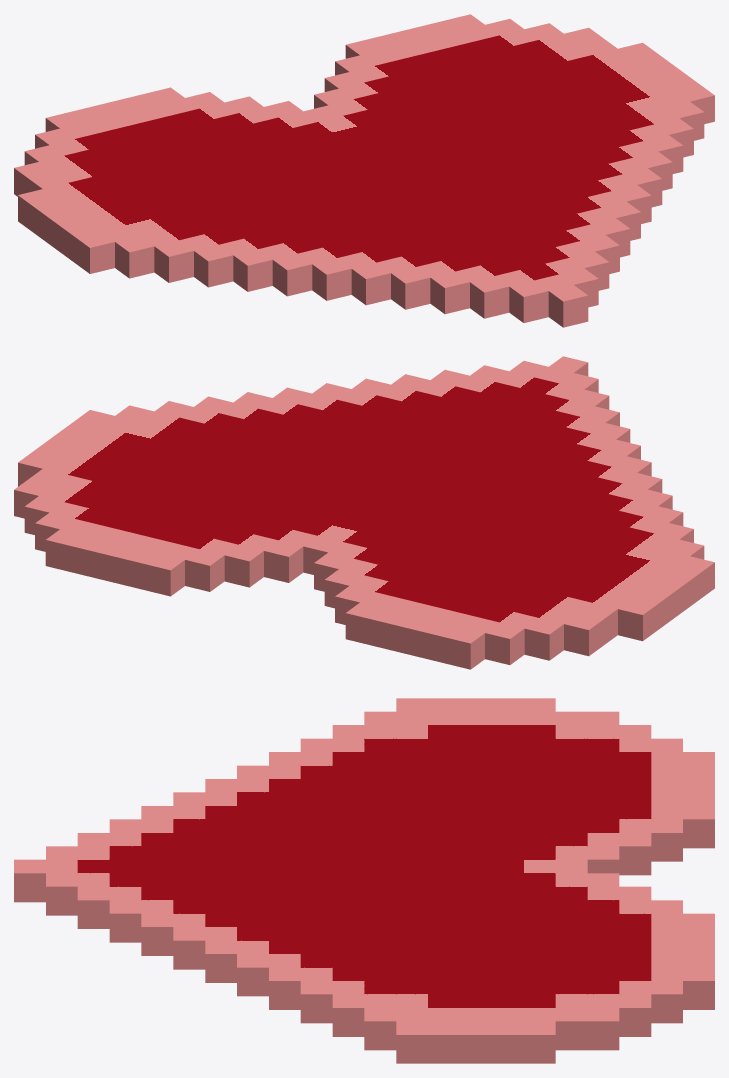
File: UI_Heart_Togather.fbx
3 renders of one model, top to bottom at view 1: azimuth 30°, elevation 25°; view 2: azimuth 150°, elevation 25°; view 3: azimuth 270°, elevation 25°, orthographic. The views are drawn at different scales.
Visible parts, largest first — view 1: Matrix_part_2; view 2: Matrix_part_2; view 3: Matrix_part_2.
Part boxes in pixels (<box>): Matrix_part_2: <box>14,14,714,327</box>; Matrix_part_2: <box>14,356,714,669</box>; Matrix_part_2: <box>14,698,714,1063</box>.
Size of the model in its own units: 25 by 1 by 22.
Materials: 1 (1 with a texture image).
